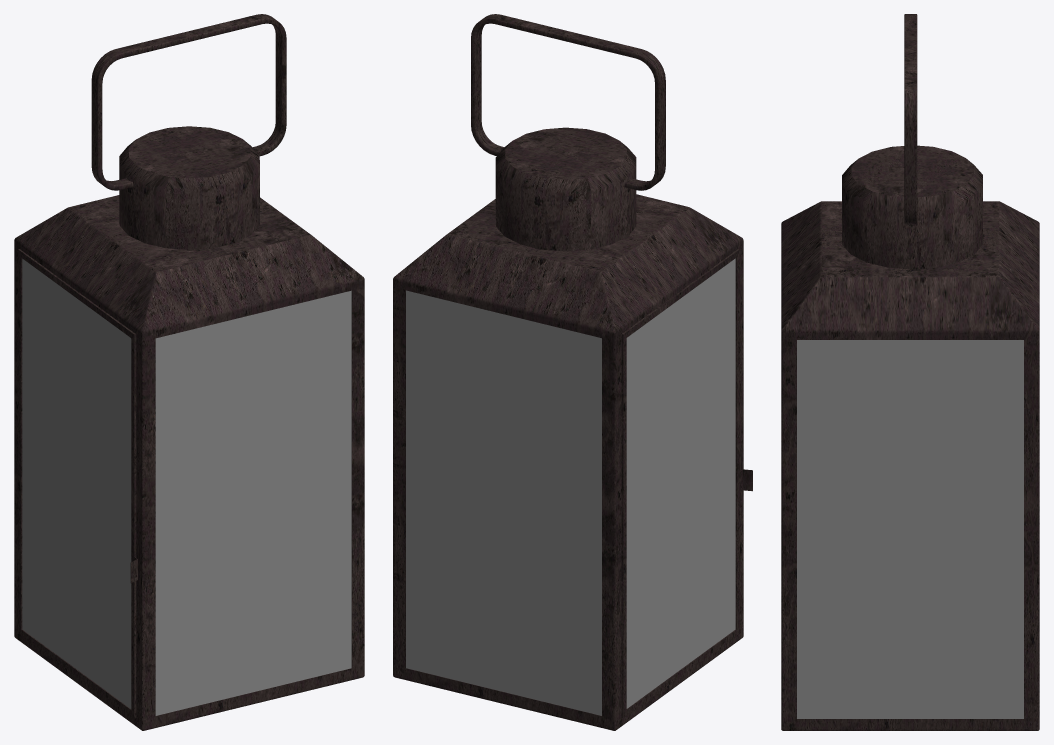
Rendered from Candle lamp.FBX.
The picture shows the model from 3 angles, left to right: view 1: azimuth 30°, elevation 25°; view 2: azimuth 150°, elevation 25°; view 3: azimuth 270°, elevation 25°; orthographic projection.
Parts seen in each view (by area): view 1: candle lamp; view 2: candle lamp; view 3: candle lamp.
Boxes of the visible parts, x1=… form: candle lamp: x1=14, y1=14, x2=364, y2=730; candle lamp: x1=393, y1=14, x2=752, y2=730; candle lamp: x1=781, y1=14, x2=1039, y2=730.
Size of the model in its own units: 16.44 by 42 by 15.72.
2 materials, 1 textured.
